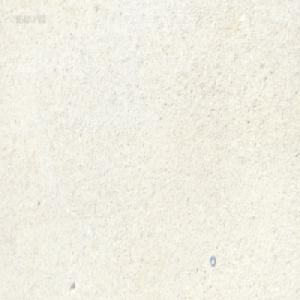Washer: (209, 254, 215, 266)
